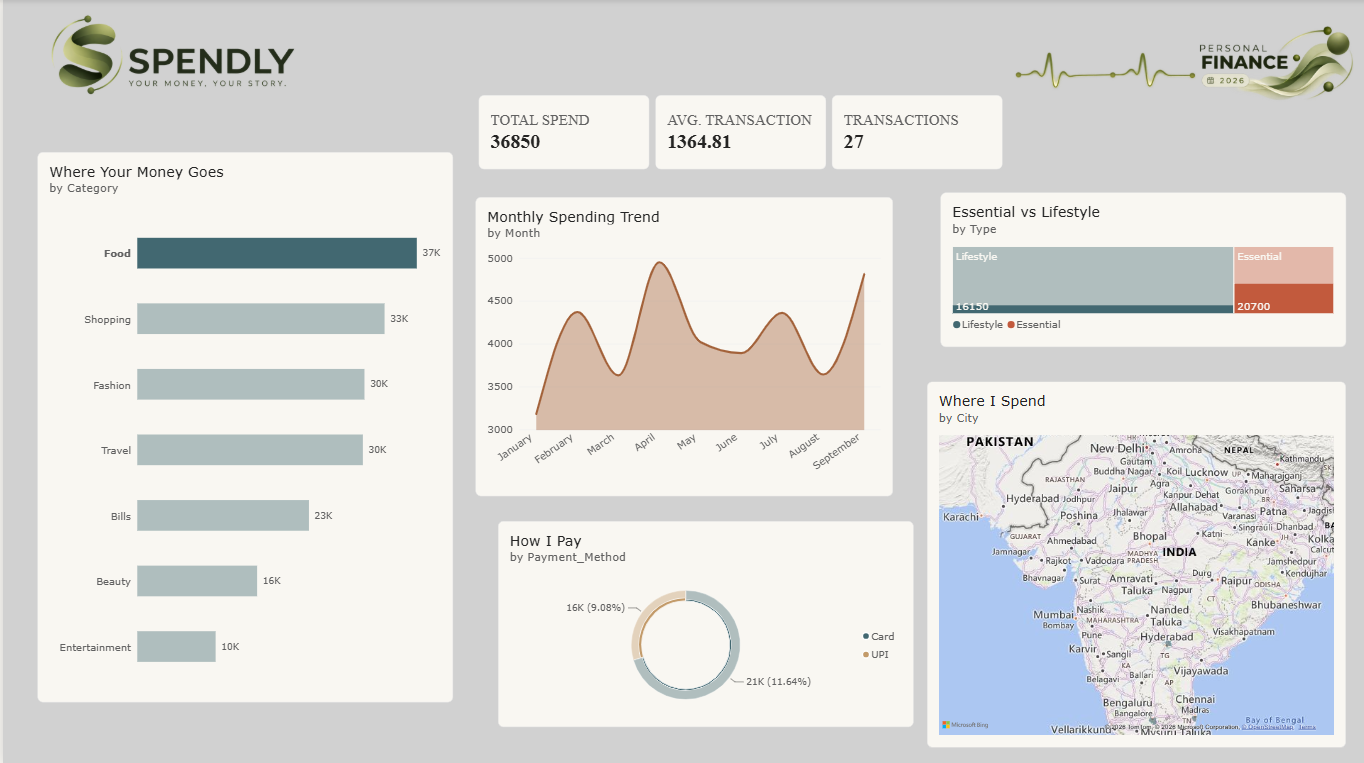

This screenshot's page, from the dashboard's own definition file:
{"tool":"powerbi","page":{"name":"Page 1","canvas":[1920,1080],"ordinal":0},"visuals":[{"type":"barChart","title":"Where Your Money Goes","fields":{"Category":["Table1.Category"],"Y":["Sum(Table1.Amount)"]},"box":[49.2,159.4,586.1,832.3],"z":0},{"type":"areaChart","fields":{"Category":["Table1.Date.Variation.Date Hierarchy.Month"],"Y":["Sum(Table1.Amount)"]},"box":[665.8,279,588.5,422],"z":1000},{"type":"donutChart","fields":{"Category":["Table1.Payment_Method"],"Y":["Sum(Table1.Amount)"]},"box":[698.7,736.2,586.1,290.7],"z":2000},{"type":"filledMap","fields":{"Category":["Table1.City"]},"box":[1303.5,539.2,590.8,515.8],"z":3000},{"type":"image","box":[0,0,471.2,159.4],"z":4000},{"type":"cardVisual","fields":{"Data":["Sum(Table1.Amount)","Avg(Table1.Amount)","CountNonNull(Table1.Amount)"]},"box":[670.5,136,740.9,105.5],"z":5000},{"type":"treemap","title":"Essential vs Lifestyle","fields":{"Group":["Table1.Type"],"Values":["Sum(Table1.Amount)"]},"box":[1322.3,272,572.1,218],"z":6000},{"type":"image","box":[1411.4,0,508.8,189.9],"z":7000}]}

Visuals, with their boxes in screenshot pixels (x1, y1, x2, y2), scaled from the page's 1920x1080 canvas onto the 1364x763 screenshot:
"Where Your Money Goes" barChart: select_region(35, 113, 451, 701)
areaChart - Table1.Date.Variation.Date Hierarchy.Month x Sum(Table1.Amount): select_region(473, 197, 891, 495)
donutChart - Table1.Payment_Method x Sum(Table1.Amount): select_region(496, 520, 913, 725)
filledMap - Table1.City: select_region(926, 381, 1346, 745)
image: select_region(0, 0, 335, 113)
cardVisual - Sum(Table1.Amount) x Avg(Table1.Amount): select_region(476, 96, 1003, 171)
"Essential vs Lifestyle" treemap: select_region(939, 192, 1346, 346)
image: select_region(1003, 0, 1363, 134)
